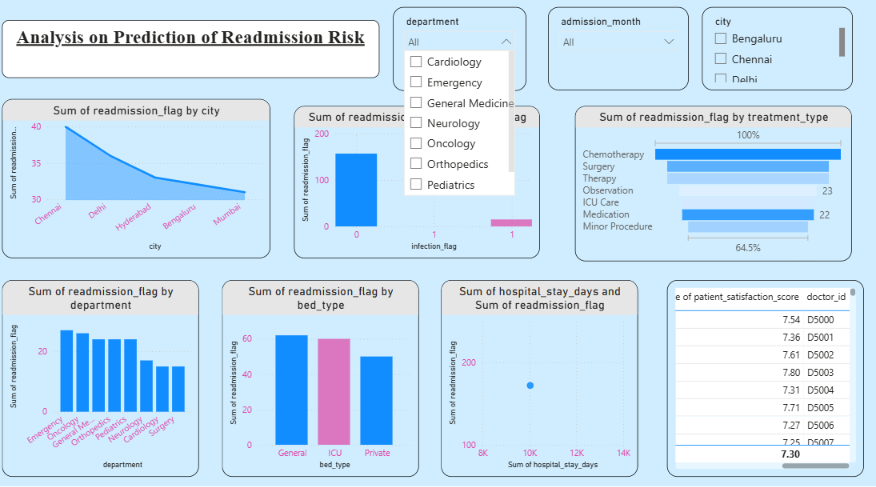

The dashboard page shown, as its layout file describes it:
{"tool":"powerbi","page":{"name":"prediction of readmission risk","canvas":[1280,720],"ordinal":3},"visuals":[{"type":"clusteredColumnChart","fields":{"Category":["healthcare_capstone_2500.department"],"Y":["Sum(healthcare_capstone_2500.readmission_flag)"]},"box":[26.1,408.9,279.9,279.9],"z":0},{"type":"areaChart","fields":{"Category":["healthcare_capstone_2500.city"],"Y":["Sum(healthcare_capstone_2500.readmission_flag)"]},"box":[26.1,152.3,381.5,226.4],"z":1000},{"type":"clusteredColumnChart","fields":{"Category":["healthcare_capstone_2500.bed_type"],"Y":["Sum(healthcare_capstone_2500.readmission_flag)"]},"box":[338.9,408.9,279.9,279.9],"z":2000},{"type":"scatterChart","fields":{"X":["Sum(healthcare_capstone_2500.hospital_stay_days)"],"Y":["Sum(healthcare_capstone_2500.readmission_flag)"]},"box":[650.4,408.9,279.9,279.9],"z":3000},{"type":"columnChart","fields":{"Category":["healthcare_capstone_2500.infection_flag"],"Y":["Sum(healthcare_capstone_2500.readmission_flag)"]},"box":[440.5,161.9,349.9,216.8],"z":4000},{"type":"tableEx","fields":{"Values":["Sum(healthcare_capstone_2500.readmission_flag)","Avg(healthcare_capstone_2500.hospital_stay_days)","Avg(healthcare_capstone_2500.patient_satisfaction_score)","healthcare_capstone_2500.doctor_id"]},"box":[971.5,408.9,279.9,279.9],"z":5000},{"type":"funnel","fields":{"Category":["healthcare_capstone_2500.treatment_type"],"Y":["Sum(healthcare_capstone_2500.readmission_flag)"]},"box":[841.2,161.9,393.8,220.9],"z":6000},{"type":"slicer","fields":{"Values":["healthcare_capstone_2500.city"]},"box":[1020.9,22,214.1,118],"z":7000},{"type":"slicer","fields":{"Values":["healthcare_capstone_2500.department"]},"box":[581.8,22,189.4,119.4],"z":8000},{"type":"slicer","fields":{"Values":["healthcare_capstone_2500.admission_month"]},"box":[802.7,22,200.3,118],"z":9000},{"type":"textbox","box":[26.1,39.8,536.5,82.3],"z":10000}]}

Visuals, with their boxes in screenshot pixels (x1, y1, x2, y2), scaled from the page's 1280x720 canvas onto the 876x487 screenshot:
clusteredColumnChart - healthcare_capstone_2500.department x Sum(healthcare_capstone_2500.readmission_flag): [18,277,209,466]
areaChart - healthcare_capstone_2500.city x Sum(healthcare_capstone_2500.readmission_flag): [18,103,279,256]
clusteredColumnChart - healthcare_capstone_2500.bed_type x Sum(healthcare_capstone_2500.readmission_flag): [232,277,423,466]
scatterChart - Sum(healthcare_capstone_2500.hospital_stay_days) x Sum(healthcare_capstone_2500.readmission_flag): [445,277,637,466]
columnChart - healthcare_capstone_2500.infection_flag x Sum(healthcare_capstone_2500.readmission_flag): [301,110,541,256]
tableEx - Sum(healthcare_capstone_2500.readmission_flag) x Avg(healthcare_capstone_2500.hospital_stay_days): [665,277,856,466]
funnel - healthcare_capstone_2500.treatment_type x Sum(healthcare_capstone_2500.readmission_flag): [576,110,845,259]
slicer - healthcare_capstone_2500.city: [699,15,845,95]
slicer - healthcare_capstone_2500.department: [398,15,528,96]
slicer - healthcare_capstone_2500.admission_month: [549,15,686,95]
textbox: [18,27,385,83]
